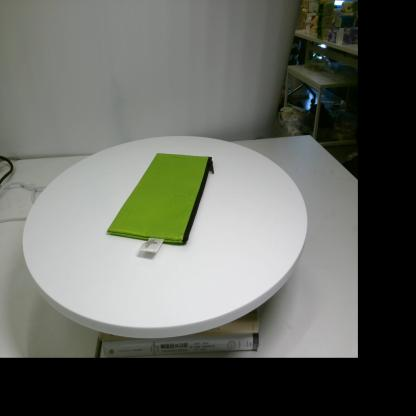Stationery: (107, 153, 214, 253)
